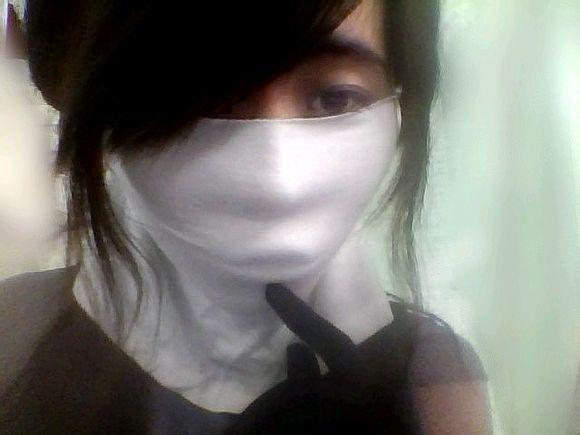OK: (141, 19, 404, 282)
